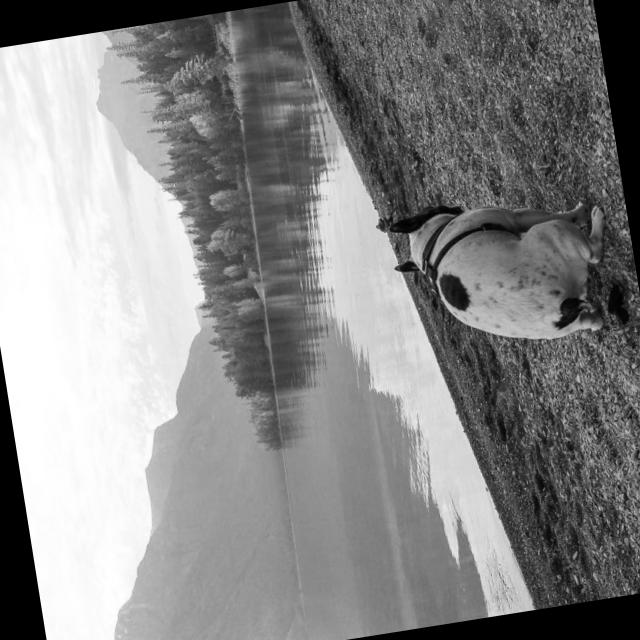squatting: (377, 160, 637, 364)
